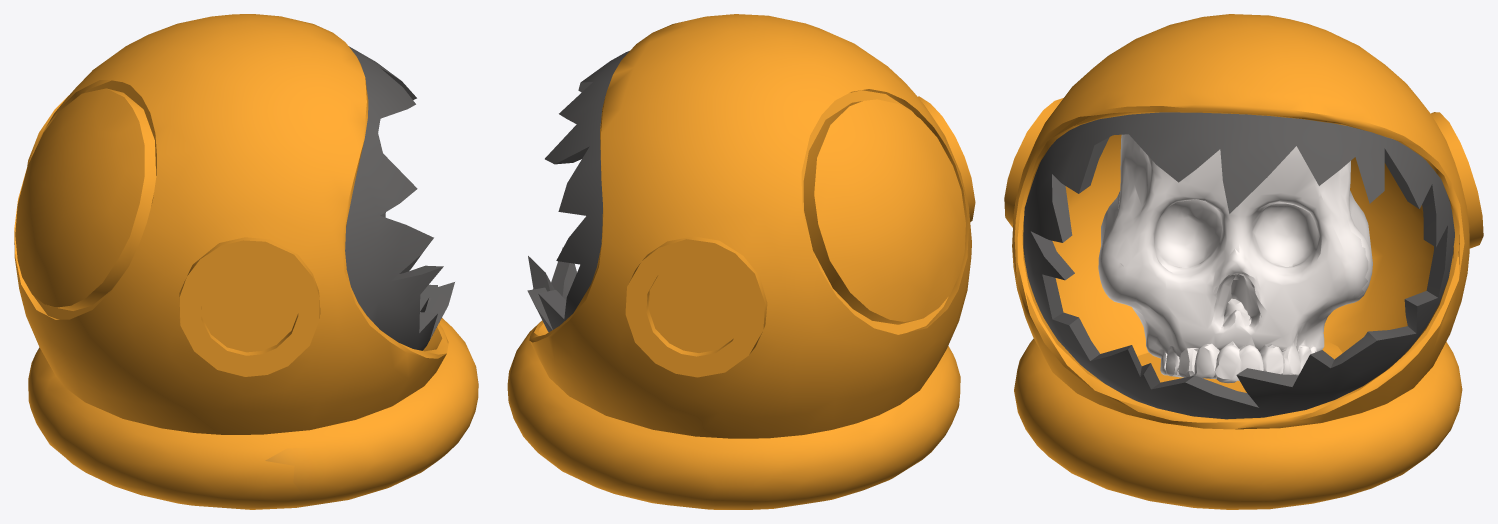
File: Astronaute.gltf
The picture shows the model from 3 angles, left to right: view 1: azimuth 30°, elevation 25°; view 2: azimuth 150°, elevation 25°; view 3: azimuth 270°, elevation 25°; orthographic projection.
Parts seen in each view (by area): view 1: WHITE_SKULL.005; view 2: WHITE_SKULL.005; view 3: WHITE_SKULL.005.
Boxes of the visible parts, x1=… form: WHITE_SKULL.005: x1=14, y1=14, x2=478, y2=509; WHITE_SKULL.005: x1=507, y1=14, x2=975, y2=509; WHITE_SKULL.005: x1=1004, y1=14, x2=1483, y2=509.
Size of the model in its own units: 35.97 by 33.64 by 37.48.
Materials: 1 (1 with a texture image).
